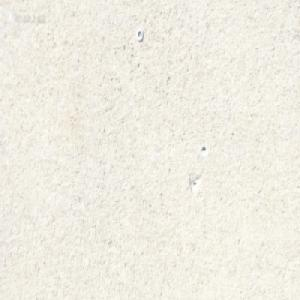Washer: (136, 28, 143, 41)
